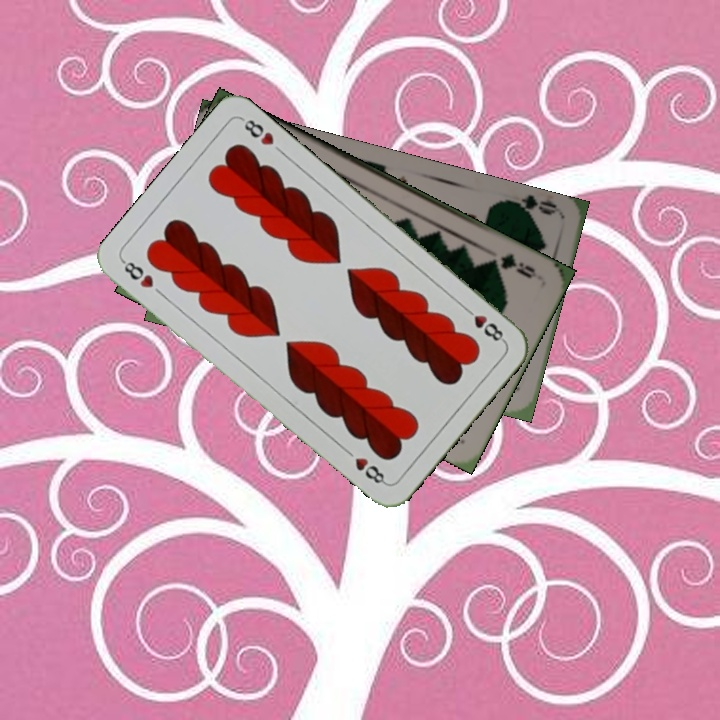G9: (485, 249, 539, 281)
GO: (501, 192, 561, 222)
H8: (458, 302, 507, 345), (118, 256, 156, 291)
